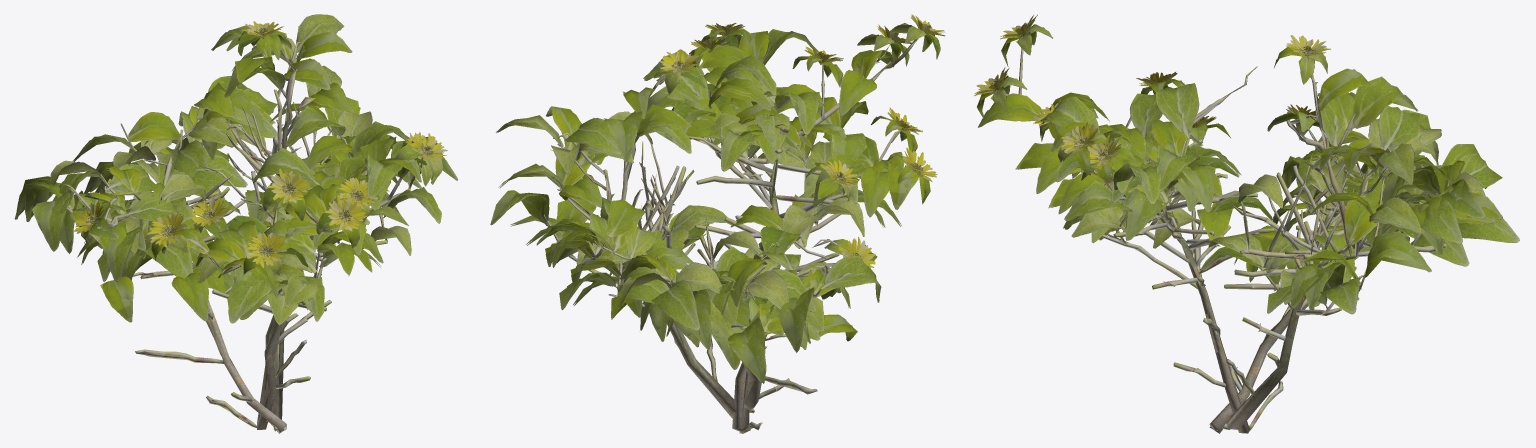
The model's file is desert-scrub.glb.
The picture shows the model from 3 angles, left to right: view 1: azimuth 30°, elevation 25°; view 2: azimuth 150°, elevation 25°; view 3: azimuth 270°, elevation 25°; orthographic projection. The views are drawn at different scales.
Parts seen in each view (by area): view 1: LOD0_desert_scrub, LOD1_desert_scrub; view 2: LOD0_desert_scrub, LOD1_desert_scrub; view 3: LOD0_desert_scrub, LOD1_desert_scrub.
Boxes of the visible parts, <box> form: LOD0_desert_scrub: <box>16,14,457,431</box>; LOD1_desert_scrub: <box>14,16,457,433</box>; LOD0_desert_scrub: <box>490,15,945,433</box>; LOD1_desert_scrub: <box>490,14,945,431</box>; LOD0_desert_scrub: <box>974,15,1518,433</box>; LOD1_desert_scrub: <box>976,14,1519,433</box>.
Bounding box in the file's own units: 1.47 × 1.5 × 1.82.
1 material, 1 textured.
